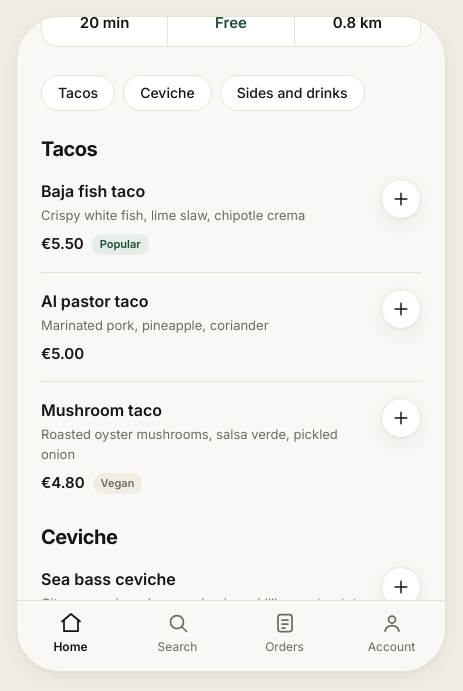
Test: Restaurant page › removes dishes and hides the cart bar when the cart is empty
This screenshot has width=463, height=691.
(page scrolled)
Click the button named "Add Al pastor taco" at point(401, 308), box [381,288,421,328]
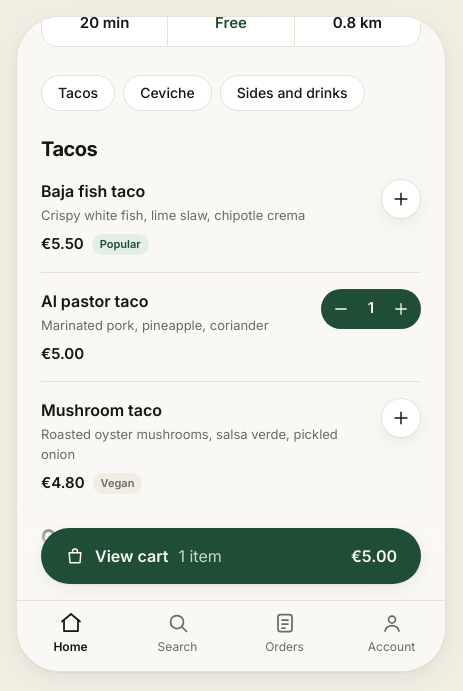
expect the button "View cart 1 item €5.00" is shown: met, box [41,528,421,584]
Click the button named "Remove one Al pastor taco" at point(341, 308), box [321,288,361,328]
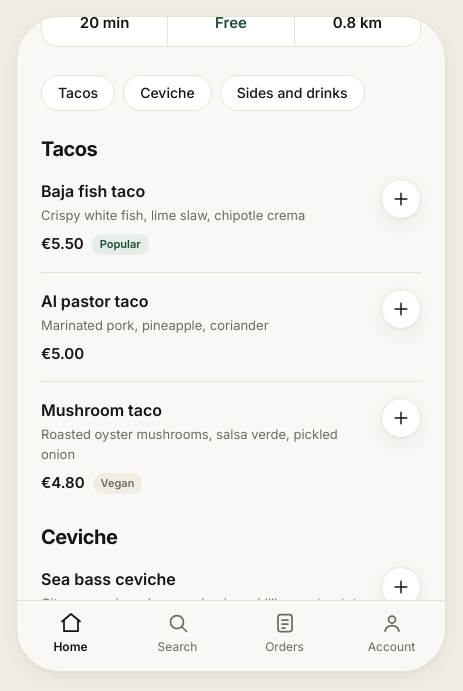
expect the button "View cart" is gone: met
expect the button named "Add Al pastor taco" is shown: met, box [381,288,421,328]
